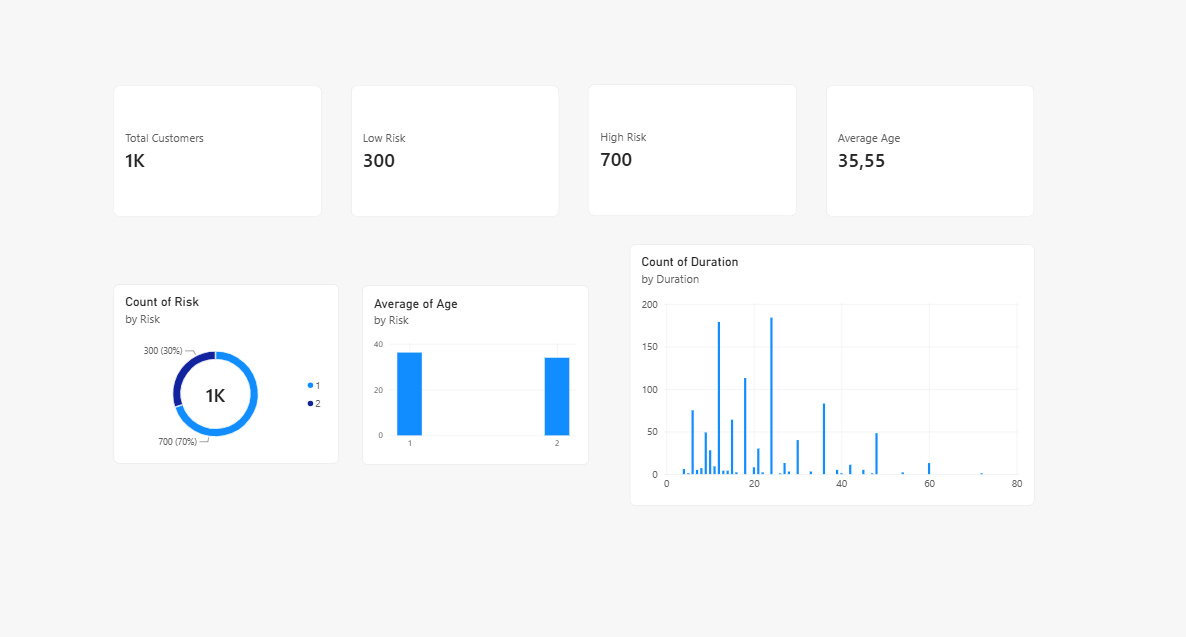

This screenshot's page, from the dashboard's own definition file:
{"tool":"powerbi","page":{"name":"Page 1","canvas":[1920,1080],"ordinal":0},"visuals":[{"type":"donutChart","title":"Risk Distribution","fields":{"Category":["GermanCredit.Risk Label"],"Y":["CountNonNull(GermanCredit.Risk)"]},"box":[299,520.5,324.4,258.1],"z":0},{"type":"clusteredColumnChart","title":"Average Age by Risk Category","fields":{"Category":["GermanCredit.Risk Label"],"Y":["Avg(GermanCredit.Age)"]},"box":[657.6,521.5,350.6,258.1],"z":1000},{"type":"cardVisual","fields":{"Data":["GermanCredit.Total Customers"]},"box":[299.3,233.7,300.8,189.1],"z":2000},{"type":"cardVisual","fields":{"Data":["GermanCredit.Low Risk"]},"box":[641.6,233.7,300.8,189.1],"z":3000},{"type":"cardVisual","fields":{"Data":["GermanCredit.High Risk"]},"box":[983.8,232.8,300.8,190.9],"z":4000},{"type":"cardVisual","fields":{"Data":["GermanCredit.Average Age"]},"box":[1326,233.7,300.8,189.1],"z":5000},{"type":"clusteredColumnChart","title":"Customer Distribution by Loan Duration","fields":{"Category":["GermanCredit.Duration Band"],"Y":["CountNonNull(GermanCredit.Duration)"]},"box":[1043,462.2,582.6,376.7],"z":6000},{"type":"textbox","box":[0,30,1920.4,150],"z":6001},{"type":"textbox","box":[0,1030.8,1920.4,48.8],"z":6002}]}

Visuals, with their boxes on the page's 1920x1080 design canvas (x1, y1, x2, y2). These are canvas units, not pixel positions in the 1186x637 screenshot, which may show the page scaled, cropped or inside an application window:
"Risk Distribution" donutChart: Rect(299, 520, 623, 779)
"Average Age by Risk Category" clusteredColumnChart: Rect(658, 522, 1008, 780)
cardVisual - GermanCredit.Total Customers: Rect(299, 234, 600, 423)
cardVisual - GermanCredit.Low Risk: Rect(642, 234, 942, 423)
cardVisual - GermanCredit.High Risk: Rect(984, 233, 1285, 424)
cardVisual - GermanCredit.Average Age: Rect(1326, 234, 1627, 423)
"Customer Distribution by Loan Duration" clusteredColumnChart: Rect(1043, 462, 1626, 839)
textbox: Rect(0, 30, 1920, 180)
textbox: Rect(0, 1031, 1920, 1080)
